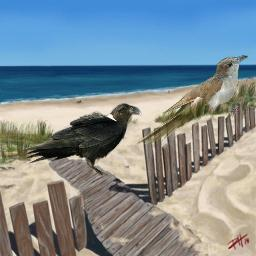Crow: (20, 102, 143, 178)
Cuckoo: (136, 55, 248, 145)
